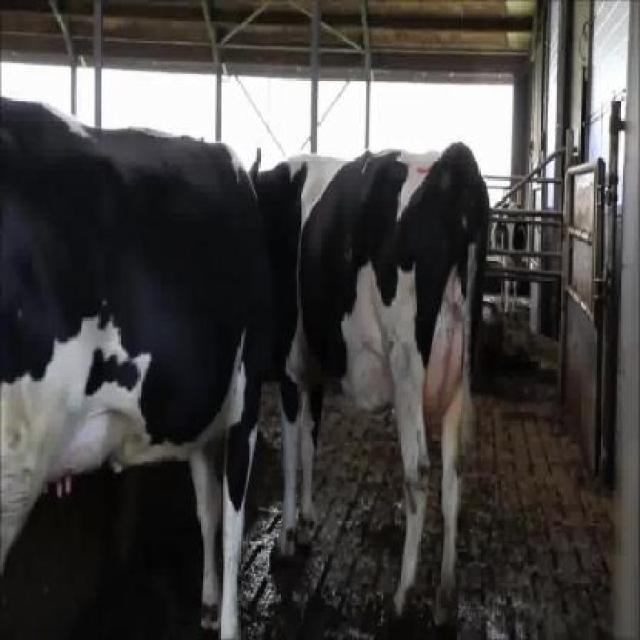Cow: (0, 96, 262, 638), (249, 138, 491, 638)
